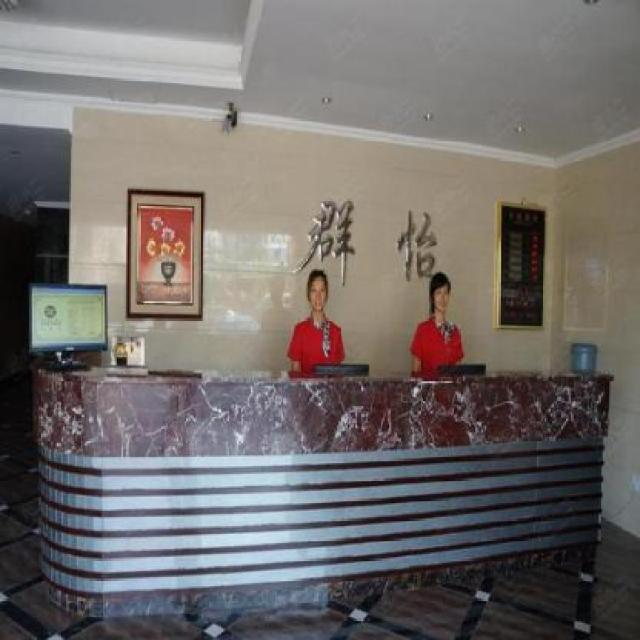frontdesk: (13, 338, 624, 640)
